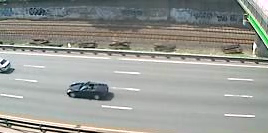car: (65, 79, 113, 101)
